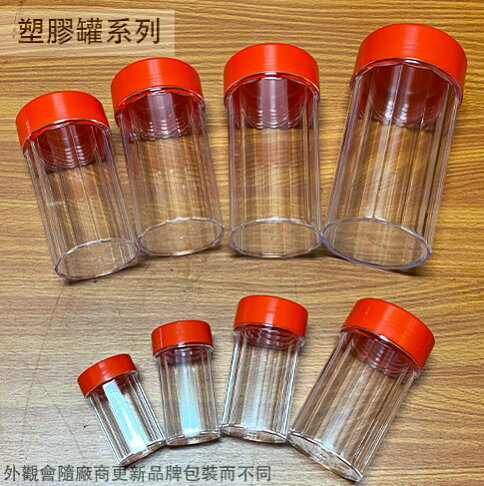medicinejar: (337, 16, 466, 292), (295, 281, 441, 486), (12, 93, 156, 284), (107, 56, 232, 262), (216, 42, 326, 265), (223, 292, 311, 451), (72, 354, 170, 464), (144, 310, 223, 446)
